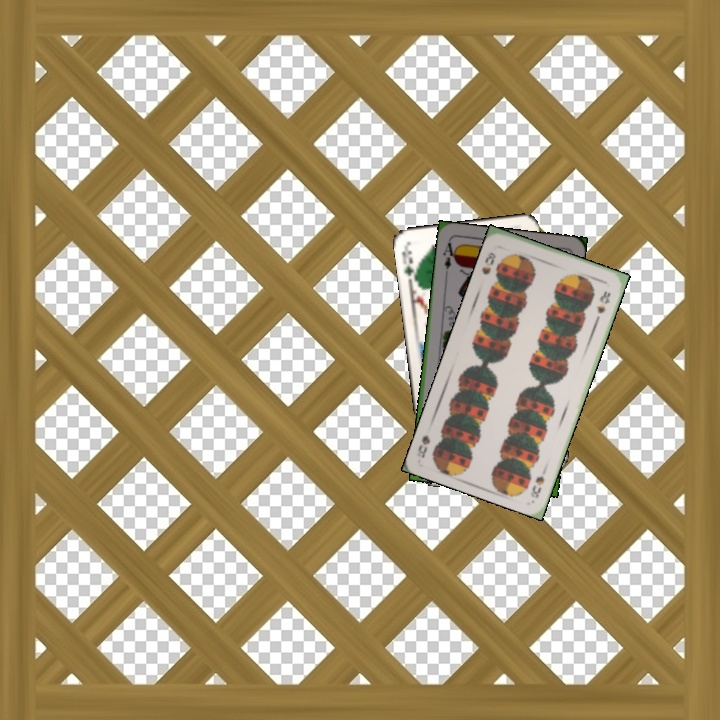EA: (439, 237, 459, 272)
GK: (397, 243, 420, 283)
S8: (526, 461, 550, 501), (478, 248, 498, 277)
